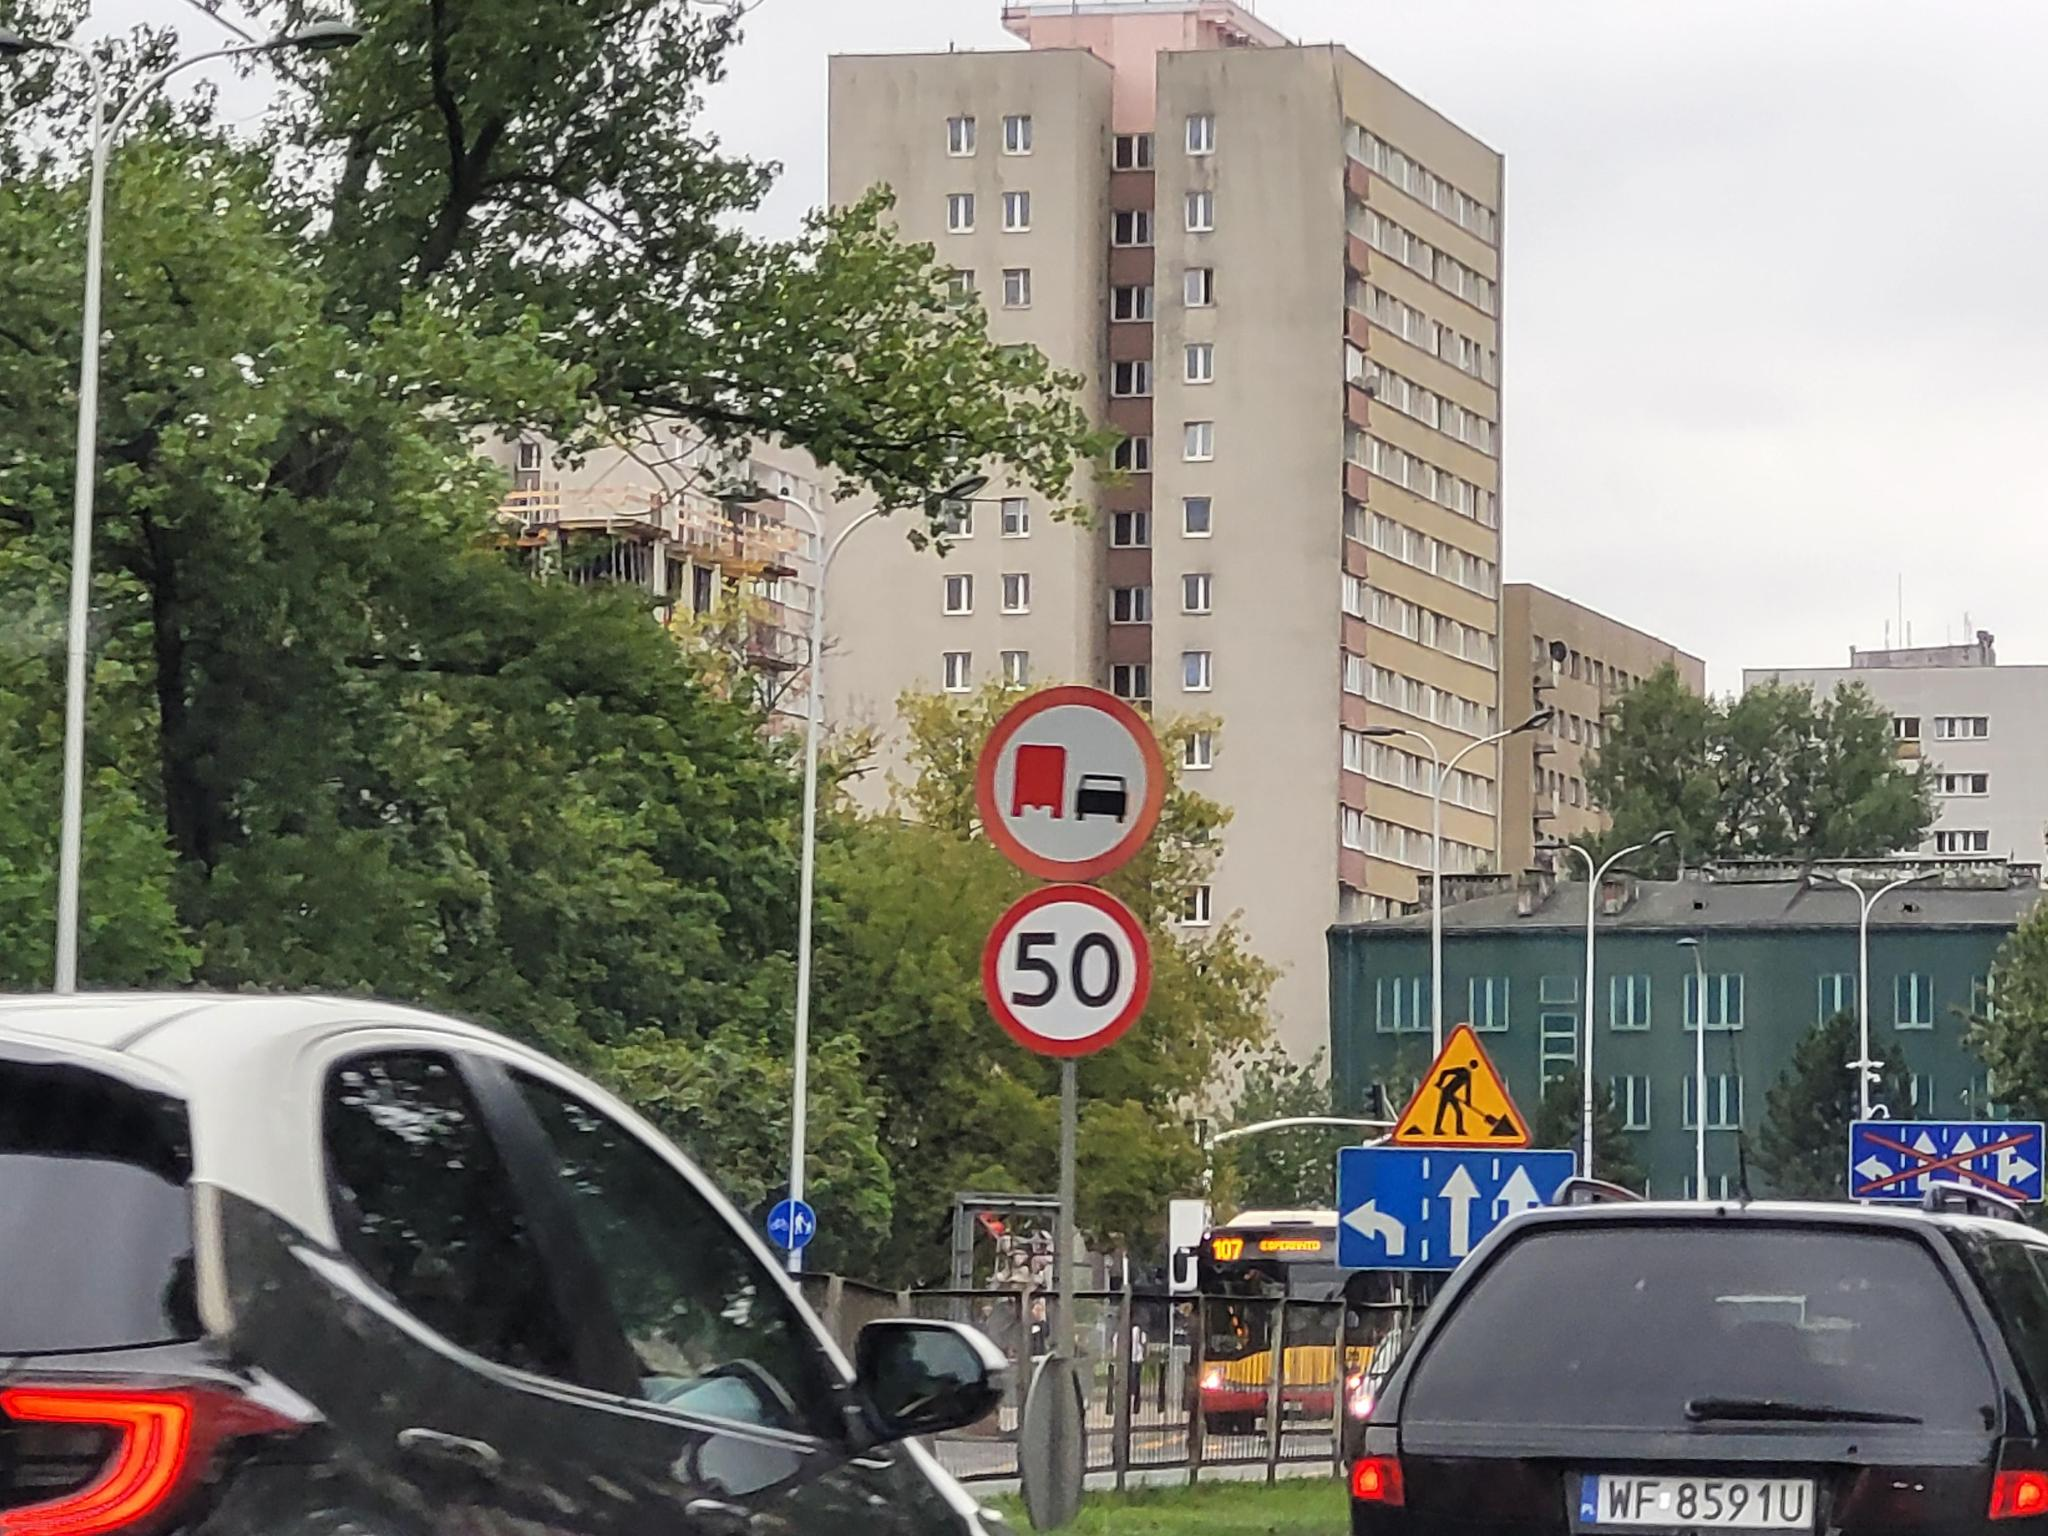mandatory: (768, 1197, 818, 1250)
other: (1337, 1146, 1576, 1271), (1850, 1120, 2045, 1202)
prohibitory: (976, 684, 1168, 879), (982, 883, 1155, 1062)
warning: (1392, 1023, 1534, 1147)
